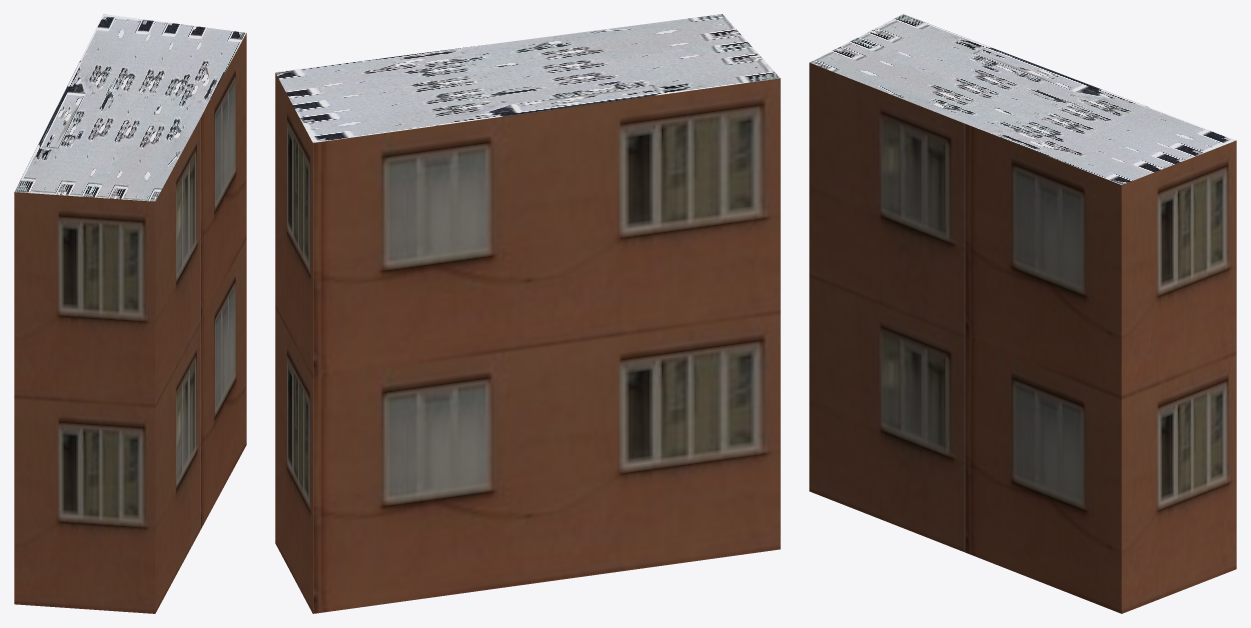
The model's file is ResTex__922.fbx.
The picture shows the model from 3 angles, left to right: view 1: azimuth 30°, elevation 25°; view 2: azimuth 150°, elevation 25°; view 3: azimuth 270°, elevation 25°; orthographic projection. The views are drawn at different scales.
Parts seen in each view (by area): view 1: CityEngineMaterial_20_m, CityEngineMaterial_8_m; view 2: CityEngineMaterial_20_m, CityEngineMaterial_8_m; view 3: CityEngineMaterial_20_m, CityEngineMaterial_8_m.
Boxes of the visible parts, <box> form: CityEngineMaterial_20_m: <box>14,33,246,613</box>; CityEngineMaterial_8_m: <box>14,14,246,201</box>; CityEngineMaterial_20_m: <box>275,73,780,613</box>; CityEngineMaterial_8_m: <box>275,14,780,142</box>; CityEngineMaterial_20_m: <box>809,62,1236,613</box>; CityEngineMaterial_8_m: <box>810,14,1235,184</box>.
Size of the model in its own units: 5.14 by 6 by 5.42.
Materials: 2 (2 with a texture image).
